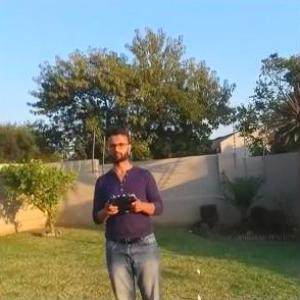follow: (86, 120, 170, 299)
